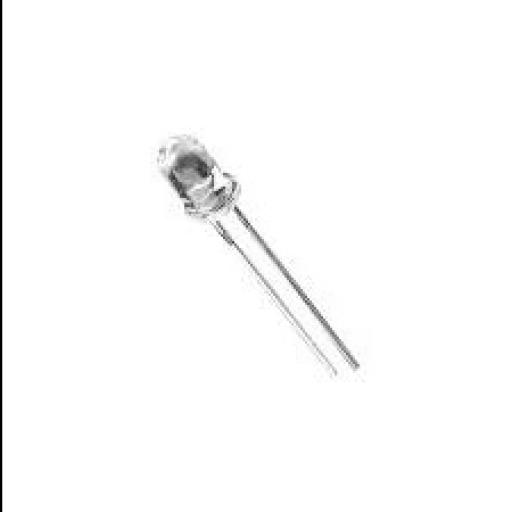LED: (152, 130, 362, 378)
